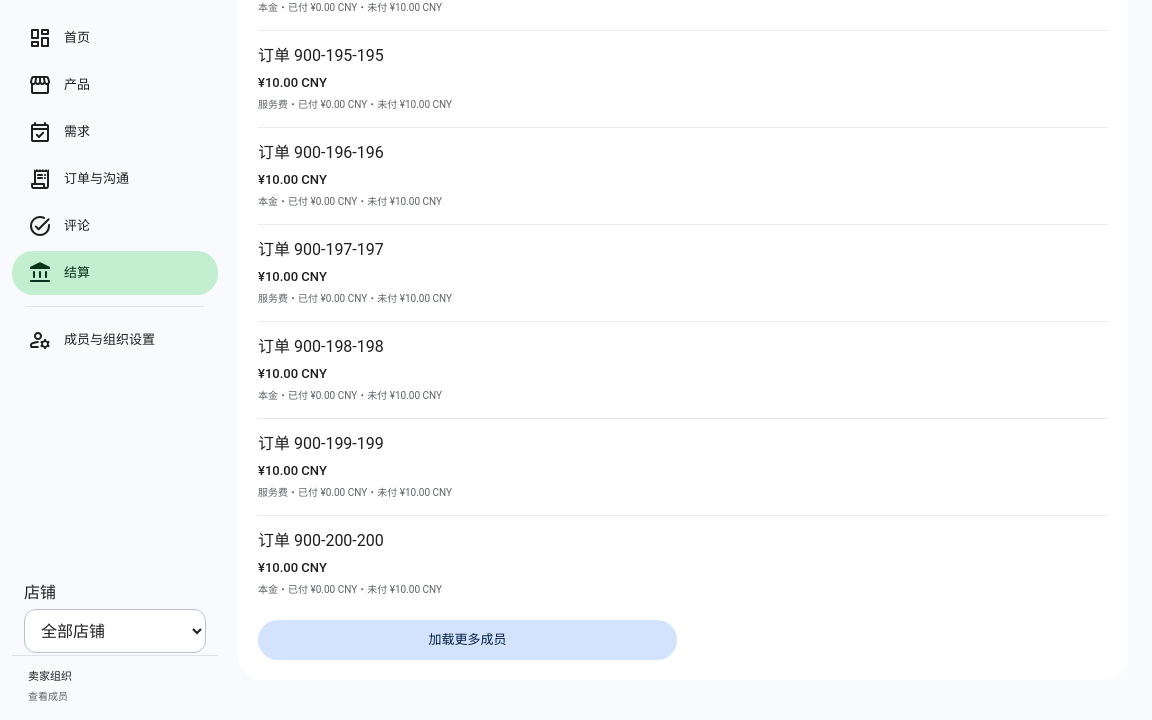
it: seller settlement batch detail (7.5R-2) › loads 250 members across two cursor pages without duplicates or gaps
(page scrolled)
Click the button "加载更多成员".
click(468, 640)  # box x1=258 y1=620 x2=677 y2=660
(page scrolled)
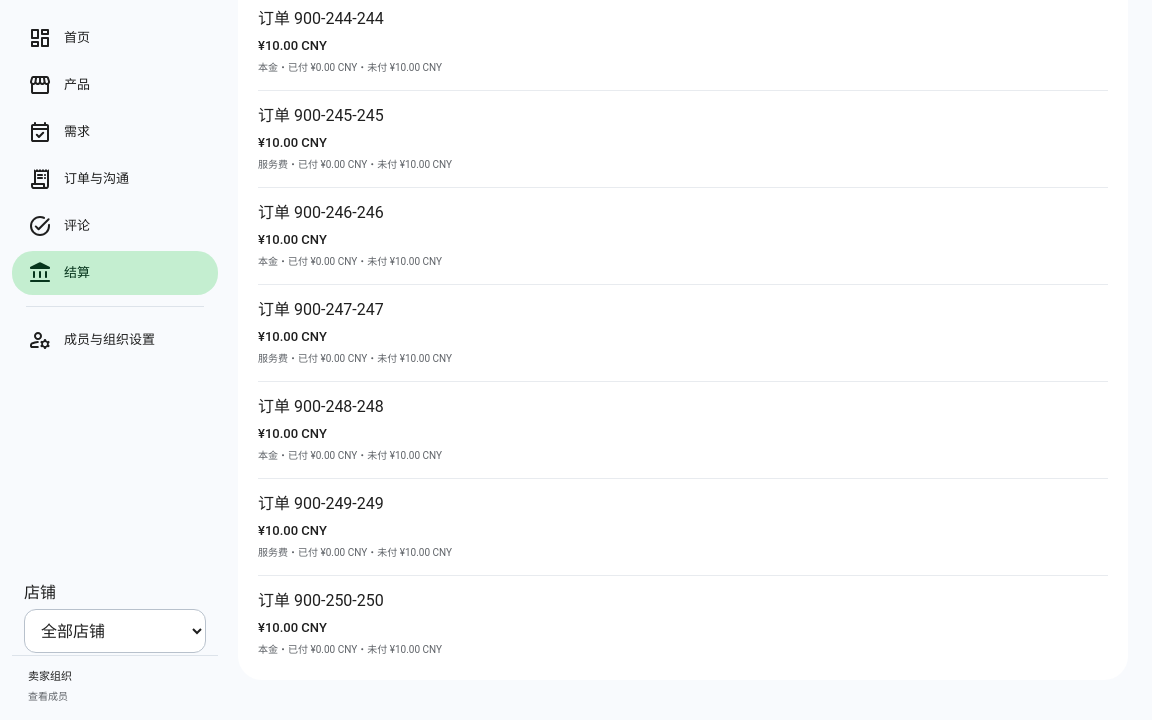
expect the text "订单 900-250-250" is shown: met, box x1=258 y1=591 x2=384 y2=610
expect the button "加载更多成员" is gone: met
